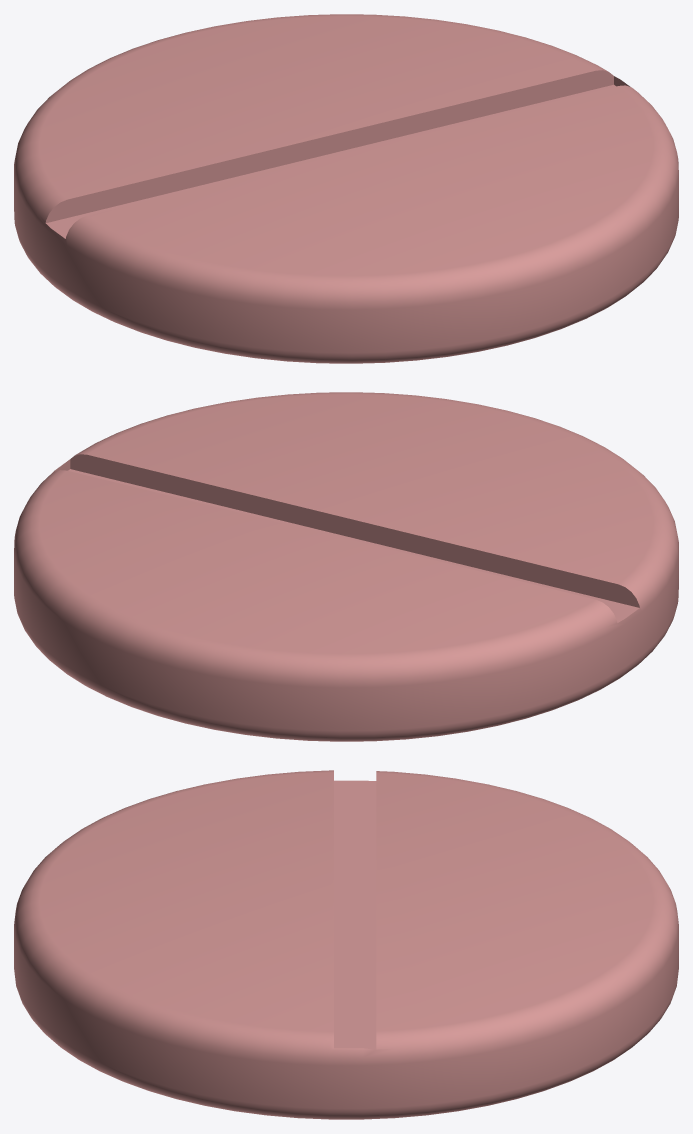
The model's file is obat.glb.
3 renders of one model, top to bottom at view 1: azimuth 30°, elevation 25°; view 2: azimuth 150°, elevation 25°; view 3: azimuth 270°, elevation 25°, orthographic.
Parts seen in each view (by area): view 1: Cylinder; view 2: Cylinder; view 3: Cylinder.
Part boxes in pixels (x1,y1,x2,y2): Cylinder: (14, 14, 678, 363); Cylinder: (14, 392, 678, 741); Cylinder: (14, 770, 678, 1119).
Size of the model in its own units: 2 by 0.2763 by 2.
